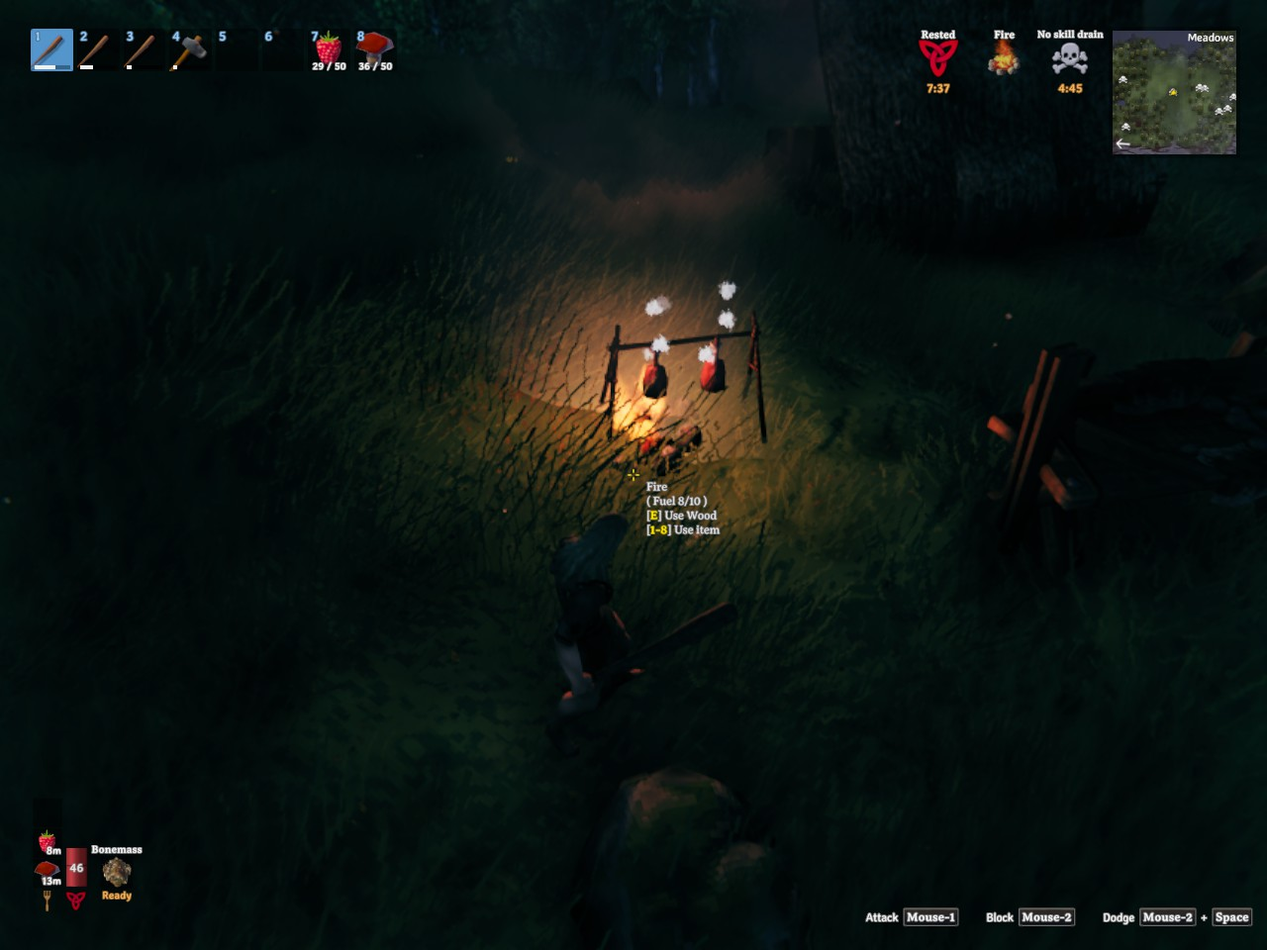Cook Station: (593, 306, 793, 464)
